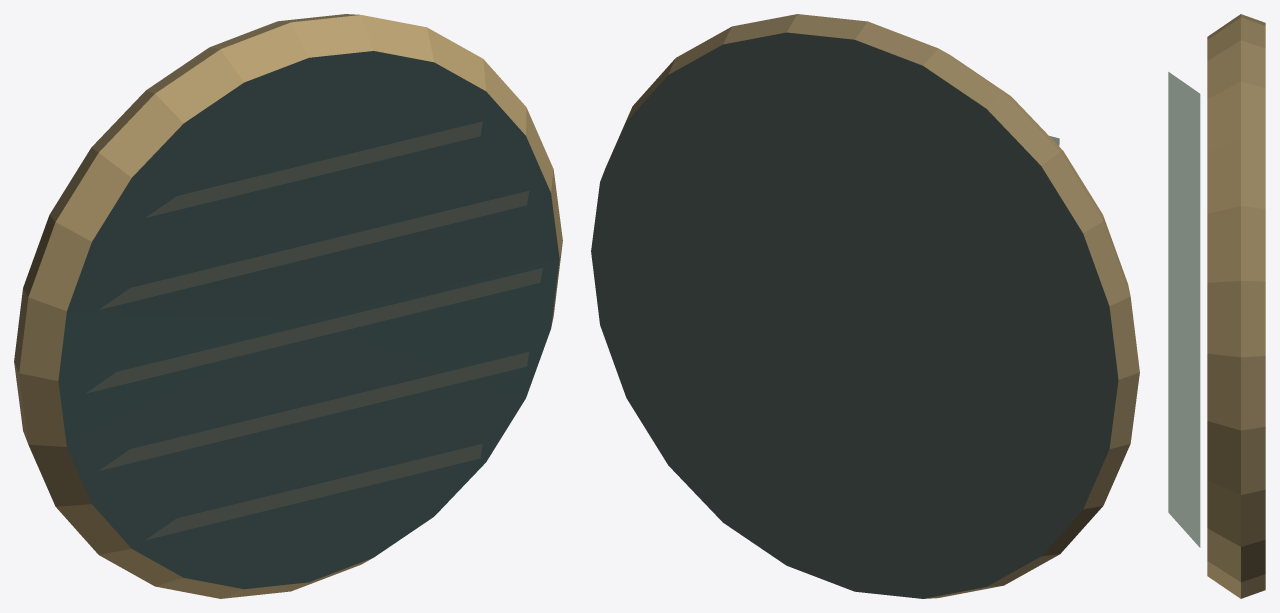
The model's file is GableVent.glb.
3 views of the same model, side by side, from view 1: azimuth 30°, elevation 25°; view 2: azimuth 150°, elevation 25°; view 3: azimuth 270°, elevation 25° (orthographic). The views are drawn at different scales.
Parts seen in each view (by area): view 1: GableVent; view 2: GableVent; view 3: GableVent.
Boxes of the visible parts, left/top/right/bottom form: GableVent: left=14, top=14, right=562, bottom=598; GableVent: left=591, top=14, right=1139, bottom=598; GableVent: left=1168, top=14, right=1265, bottom=598.
Bounding box in the file's own units: 0.332 × 0.332 × 0.055.
